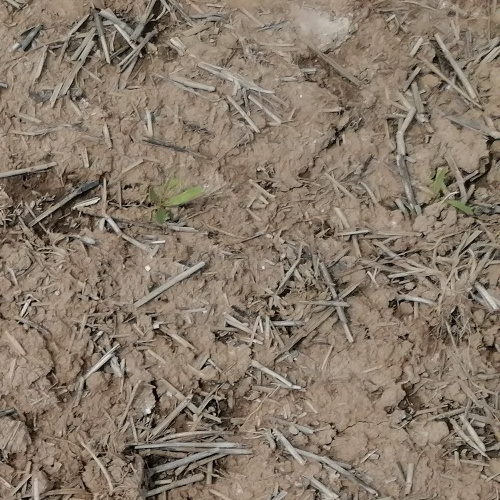beet: (431, 161, 474, 216), (149, 185, 204, 223)
